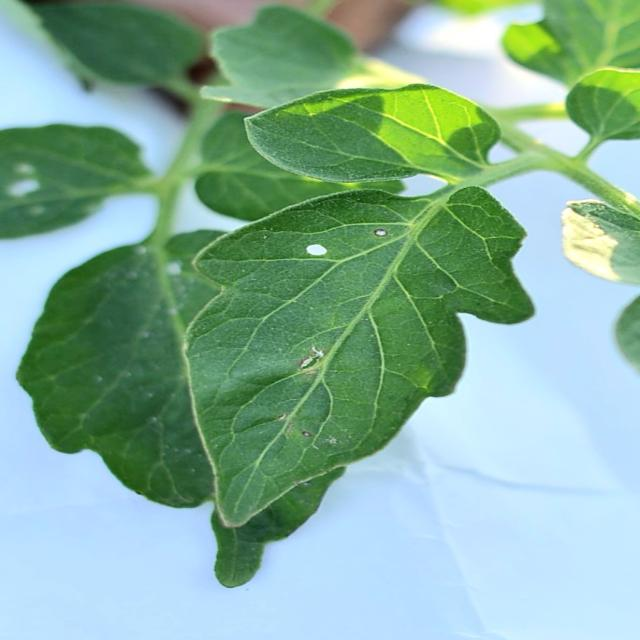infected: (242, 225, 429, 444)
